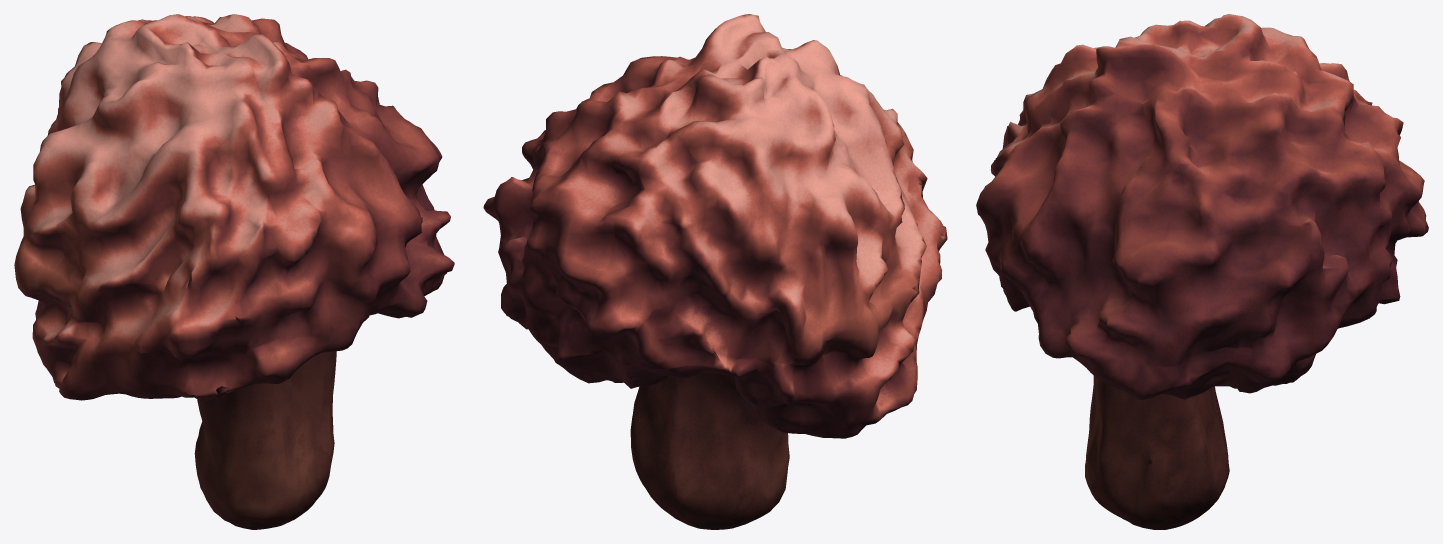
File: SENE_14.fbx
3 renders of one model, left to right at view 1: azimuth 30°, elevation 25°; view 2: azimuth 150°, elevation 25°; view 3: azimuth 270°, elevation 25°, orthographic. The views are drawn at different scales.
Visible parts, largest first — view 1: SENE_14; view 2: SENE_14; view 3: SENE_14.
Boxes of the visible parts, x1,y1,x2,y2 form: SENE_14: [14, 14, 454, 529]; SENE_14: [483, 14, 947, 529]; SENE_14: [976, 14, 1428, 529].
Bounding box in the file's own units: 58.71 × 72.1 × 61.7.
1 material, 1 textured.
